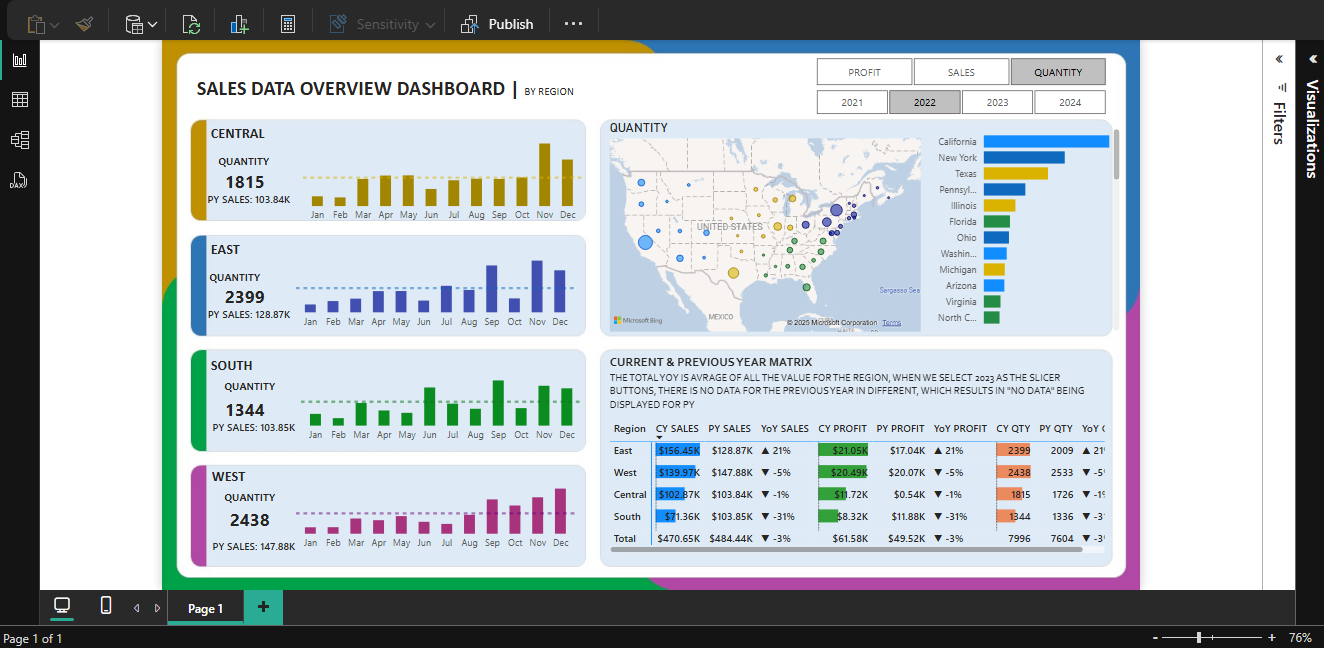

Layout of this report page (visuals, bound fields, positions):
{"tool":"powerbi","page":{"name":"Page 1","canvas":[1280,720],"ordinal":0},"visuals":[{"type":"slicer","fields":{"Values":["SELECT METRIC.SELECT METRIC"]},"box":[831.5,16.8,428.3,48.7],"z":0},{"type":"card","fields":{"Values":["Sales Data.TOTAL PROFIT"]},"box":[47,162.9,122.6,47],"z":1000},{"type":"textbox","box":[58.8,104.1,95.7,35.3],"z":2000},{"type":"slicer","fields":{"Values":["Calender Table.YEAR"]},"box":[831.5,58.8,428.3,45.4],"z":3000},{"type":"card","fields":{"Values":["Sales Data.PY KPI SALES"]},"box":[47,186.5,134.4,50.4],"z":4000},{"type":"card","fields":{"Values":["Sales Data.DYNAMIC TITLE"]},"box":[58.8,139.4,95.7,40.3],"z":5000},{"type":"card","fields":{"Values":["Sales Data.TOTAL PROFIT"]},"box":[47,312.4,122.6,47],"z":6000},{"type":"card","fields":{"Values":["Sales Data.DYNAMIC TITLE"]},"box":[47,292.3,95.7,40.3],"z":7000},{"type":"card","fields":{"Values":["Sales Data.PY KPI SALES"]},"box":[47,336,134.4,50.4],"z":8000},{"type":"card","fields":{"Values":["Sales Data.TOTAL PROFIT"]},"box":[47,460.3,122.6,47],"z":9000},{"type":"card","fields":{"Values":["Sales Data.DYNAMIC TITLE"]},"box":[67.2,435.1,95.7,40.3],"z":10000},{"type":"card","fields":{"Values":["Sales Data.PY KPI SALES"]},"box":[53.8,483.8,134.4,50.4],"z":11000},{"type":"card","fields":{"Values":["Sales Data.TOTAL PROFIT"]},"box":[53.8,604.7,122.6,47],"z":12000},{"type":"card","fields":{"Values":["Sales Data.DYNAMIC TITLE"]},"box":[67.2,579.5,95.7,40.3],"z":13000},{"type":"card","fields":{"Values":["Sales Data.PY KPI SALES"]},"box":[53.8,640,134.4,50.4],"z":14000},{"type":"clusteredColumnChart","fields":{"Category":["Calender Table.MONTH"],"Y":["Sales Data.TOTAL PROFIT"]},"box":[169.7,246.9,376.3,139.4],"z":15000},{"type":"clusteredColumnChart","fields":{"Category":["Calender Table.MONTH"],"Y":["Sales Data.TOTAL PROFIT"]},"box":[179.7,104.1,376.3,142.8],"z":16000},{"type":"clusteredColumnChart","fields":{"Category":["Calender Table.MONTH"],"Y":["Sales Data.TOTAL PROFIT"]},"box":[176.4,406.5,378,127.7],"z":17000},{"type":"clusteredColumnChart","fields":{"Category":["Calender Table.MONTH"],"Y":["Sales Data.TOTAL PROFIT"]},"box":[169.7,554.3,376.3,122.6],"z":18000},{"type":"map","fields":{"Size":["Sales Data.TOTAL PROFIT"],"Category":["Sales Data.State/Province"],"Series":["Sales Data.Region"]},"box":[581.2,104.1,416.6,282.2],"z":19000},{"type":"barChart","fields":{"Y":["Sales Data.TOTAL PROFIT"],"Category":["Sales Data.State/Province"],"Series":["Sales Data.Region"]},"box":[998,104,261,282],"z":20000},{"type":"pivotTable","fields":{"Values":["Sales Data.CY SALES","Sales Data.PY SALES","Sales Data.YoY SALES","Sales Data.CY PROFIT","Sales Data.PY PROFIT","Sales Data.YoY PROFIT","Sales Data.CY QUANTITY","Sales Data.PY QUANTITY","Sales Data.YoY QTY"],"Rows":["Sales Data.Region"]},"box":[581.2,493.9,658.5,183.1],"z":21000},{"type":"textbox","box":[40.3,42,515.7,58.8],"z":22000},{"type":"textbox","box":[581.2,406.5,299,38.6],"z":23000},{"type":"textbox","box":[581.2,426.7,658.5,67.2],"z":24000},{"type":"textbox","box":[58.8,257,95.7,35.3],"z":25000},{"type":"textbox","box":[58.8,408.2,95.7,35.3],"z":26000},{"type":"textbox","box":[60.5,554.3,95.7,35.3],"z":27000}]}

Visuals, with their boxes on the page's 1280x720 design canvas (x1, y1, x2, y2). These are canvas units, not pixel positions in the 1324x648 screenshot, which may show the page scaled, cropped or inside an application window:
slicer - SELECT METRIC.SELECT METRIC: l=832, t=17, r=1260, b=66
card - Sales Data.TOTAL PROFIT: l=47, t=163, r=170, b=210
textbox: l=59, t=104, r=154, b=139
slicer - Calender Table.YEAR: l=832, t=59, r=1260, b=104
card - Sales Data.PY KPI SALES: l=47, t=186, r=181, b=237
card - Sales Data.DYNAMIC TITLE: l=59, t=139, r=154, b=180
card - Sales Data.TOTAL PROFIT: l=47, t=312, r=170, b=359
card - Sales Data.DYNAMIC TITLE: l=47, t=292, r=143, b=333
card - Sales Data.PY KPI SALES: l=47, t=336, r=181, b=386
card - Sales Data.TOTAL PROFIT: l=47, t=460, r=170, b=507
card - Sales Data.DYNAMIC TITLE: l=67, t=435, r=163, b=475
card - Sales Data.PY KPI SALES: l=54, t=484, r=188, b=534
card - Sales Data.TOTAL PROFIT: l=54, t=605, r=176, b=652
card - Sales Data.DYNAMIC TITLE: l=67, t=580, r=163, b=620
card - Sales Data.PY KPI SALES: l=54, t=640, r=188, b=690
clusteredColumnChart - Calender Table.MONTH x Sales Data.TOTAL PROFIT: l=170, t=247, r=546, b=386
clusteredColumnChart - Calender Table.MONTH x Sales Data.TOTAL PROFIT: l=180, t=104, r=556, b=247
clusteredColumnChart - Calender Table.MONTH x Sales Data.TOTAL PROFIT: l=176, t=406, r=554, b=534
clusteredColumnChart - Calender Table.MONTH x Sales Data.TOTAL PROFIT: l=170, t=554, r=546, b=677
map - Sales Data.TOTAL PROFIT x Sales Data.State/Province: l=581, t=104, r=998, b=386
barChart - Sales Data.TOTAL PROFIT x Sales Data.State/Province: l=998, t=104, r=1259, b=386
pivotTable - Sales Data.CY SALES x Sales Data.PY SALES: l=581, t=494, r=1240, b=677
textbox: l=40, t=42, r=556, b=101
textbox: l=581, t=406, r=880, b=445
textbox: l=581, t=427, r=1240, b=494
textbox: l=59, t=257, r=154, b=292
textbox: l=59, t=408, r=154, b=444
textbox: l=60, t=554, r=156, b=590
